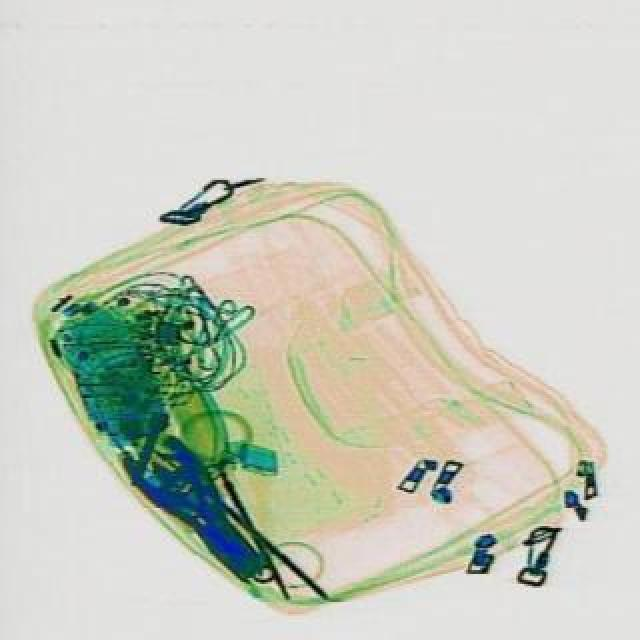wrench: (116, 424, 264, 580)
